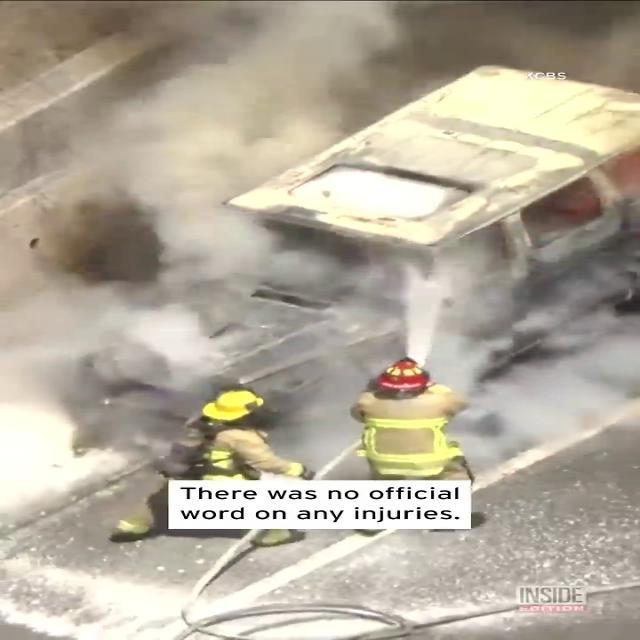Smoke: (1, 0, 435, 416)
